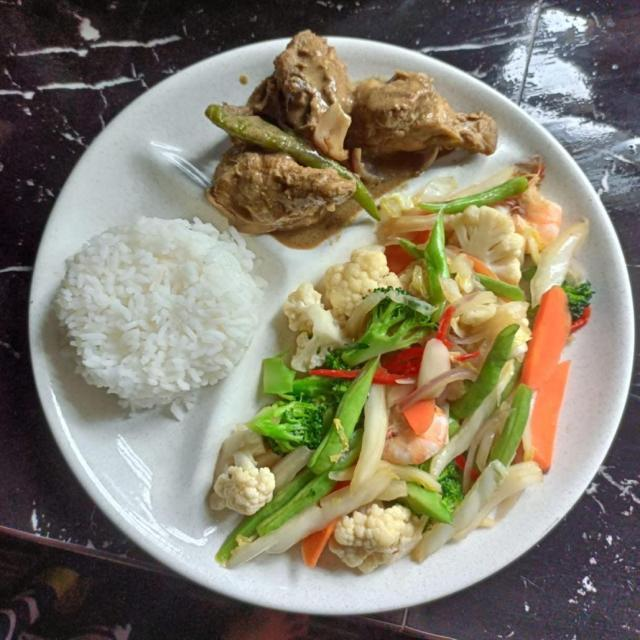Chicken: (206, 29, 499, 234)
Plate: (35, 38, 632, 603)
Rice: (45, 217, 264, 415)
Vegetables: (206, 158, 595, 575)
